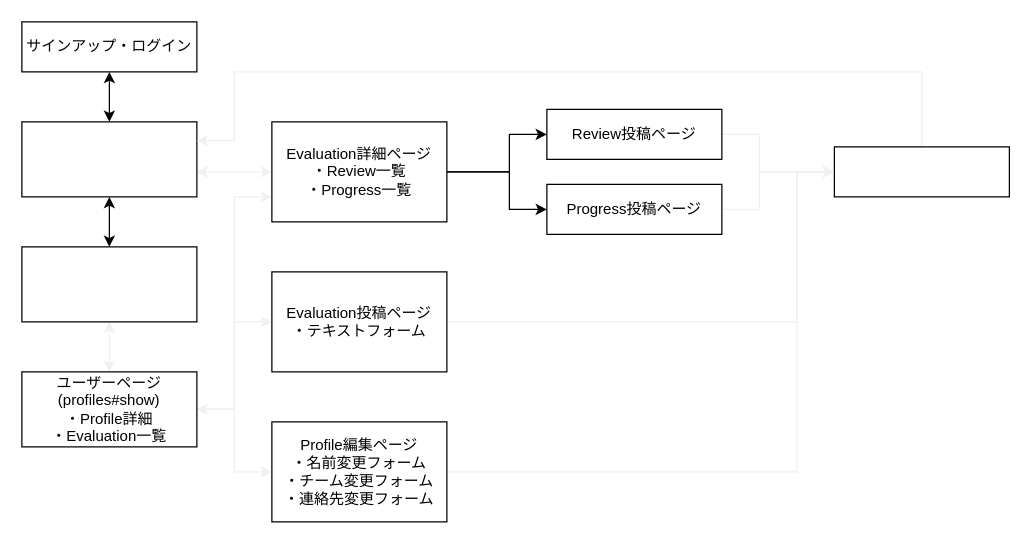
Some shapes in this 1031 by 544 pixel diagram are drawn without their labels. The shapes that lost their labels are listed below. From the top down, each one's box as (x1, y1, x2, y2) in pixels, then its label:
(21, 121, 197, 197): トップページ (profiles#index) ・未Review一覧 ・更新Evaluation一覧
(833, 146, 1009, 197): 投稿・編集完了ページ
(21, 246, 197, 322): ユーザーリストページ (explore#index) ・検索フォーム ・ユーザーリスト
